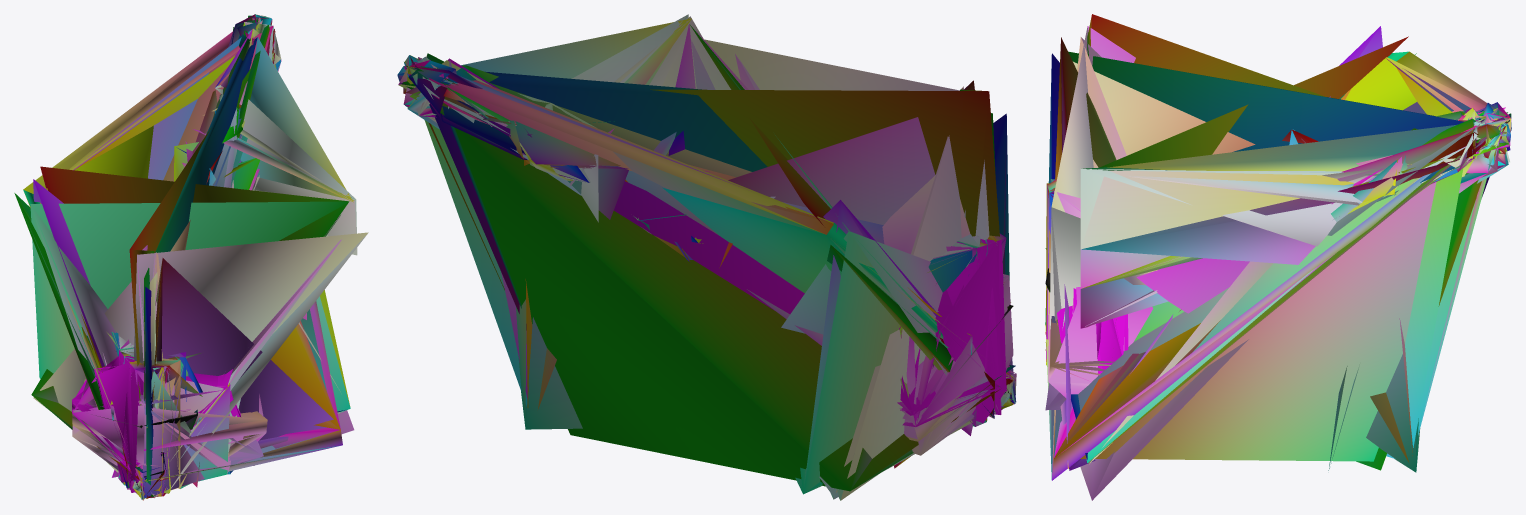
File: flange-coupling.gltf
3 views of the same model, side by side, from view 1: azimuth 30°, elevation 25°; view 2: azimuth 150°, elevation 25°; view 3: azimuth 270°, elevation 25° (orthographic). The views are drawn at different scales.
Visible parts, largest first — view 1: Object_2; view 2: Object_2; view 3: Object_2.
Boxes of the visible parts, x1,y1,x2,y2 form: Object_2: (14,14,368,500); Object_2: (397,14,1016,500); Object_2: (1045,14,1511,500).
Bounding box in the file's own units: 1.63e-42 × 1.63e-42 × 1.63e-42.
